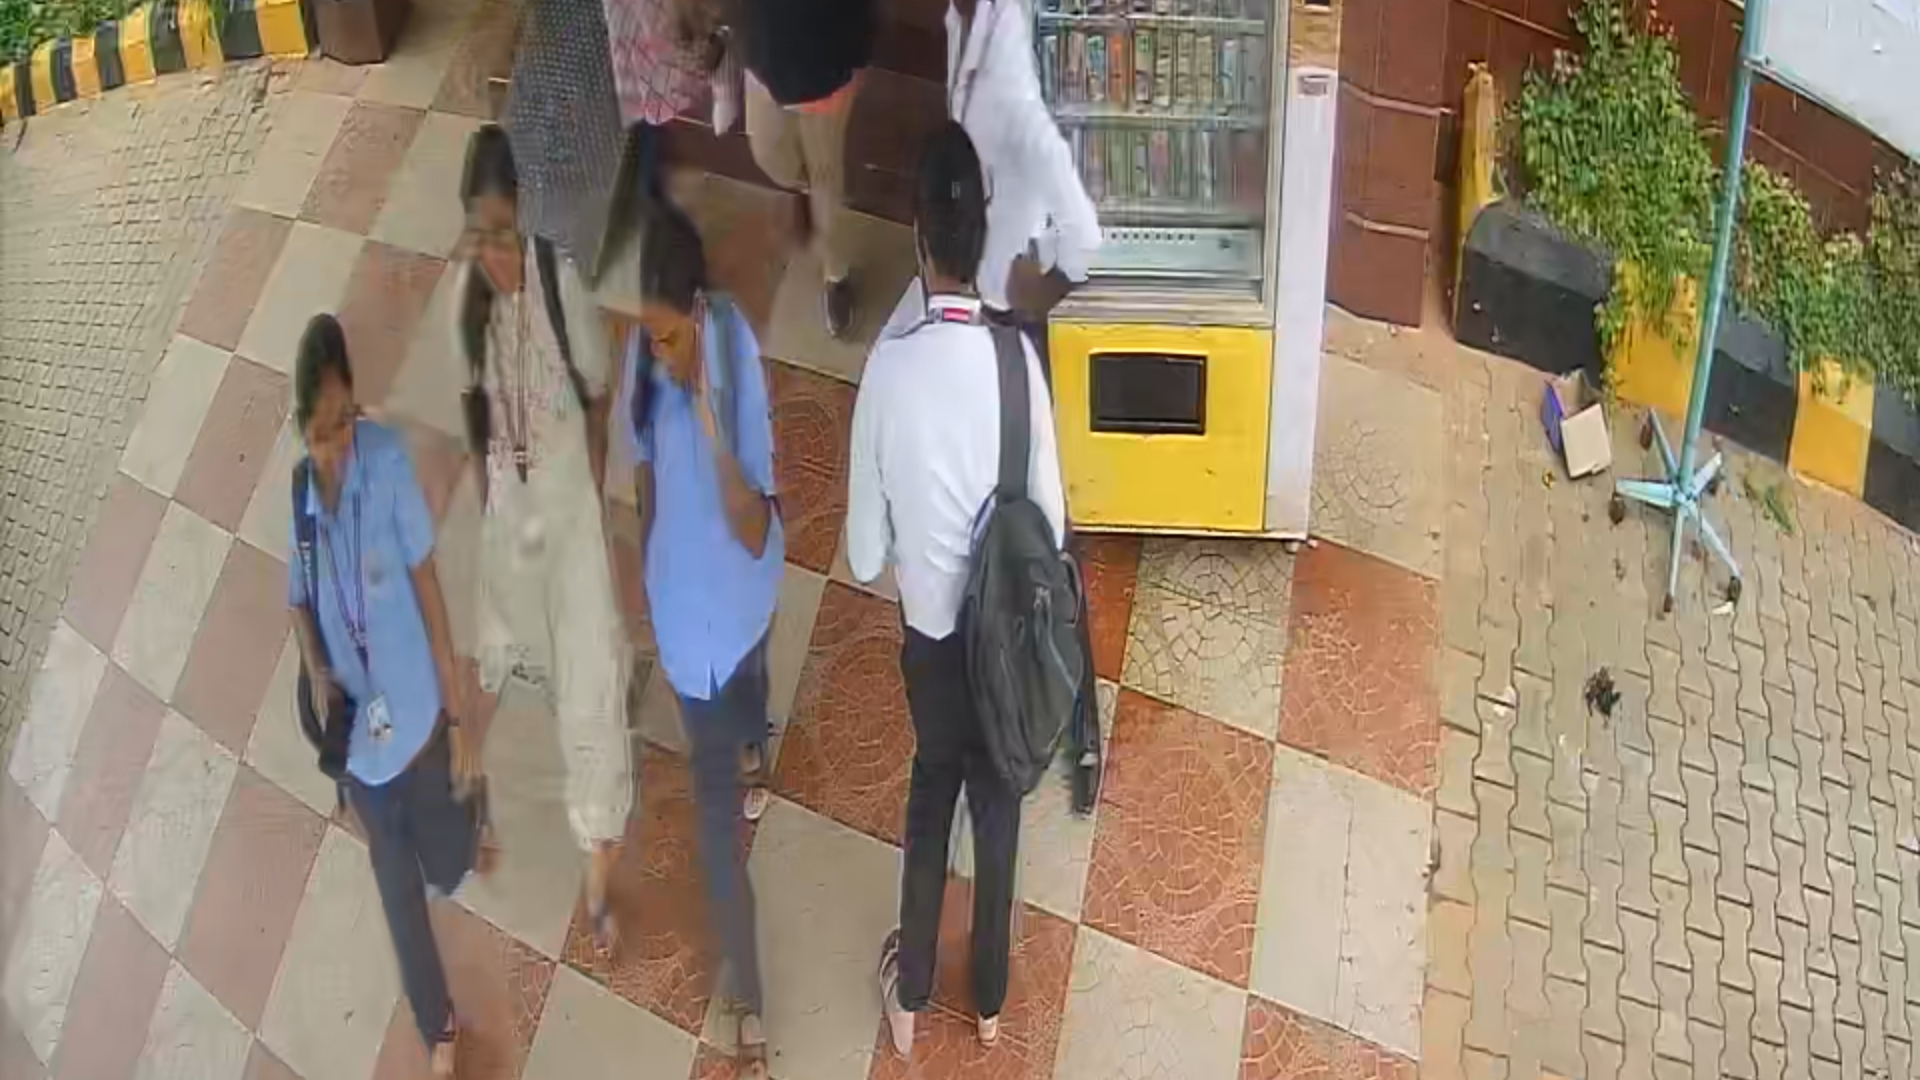intruder: (604, 207, 812, 1080)
not intruder: (430, 117, 661, 965), (268, 303, 498, 1040)
